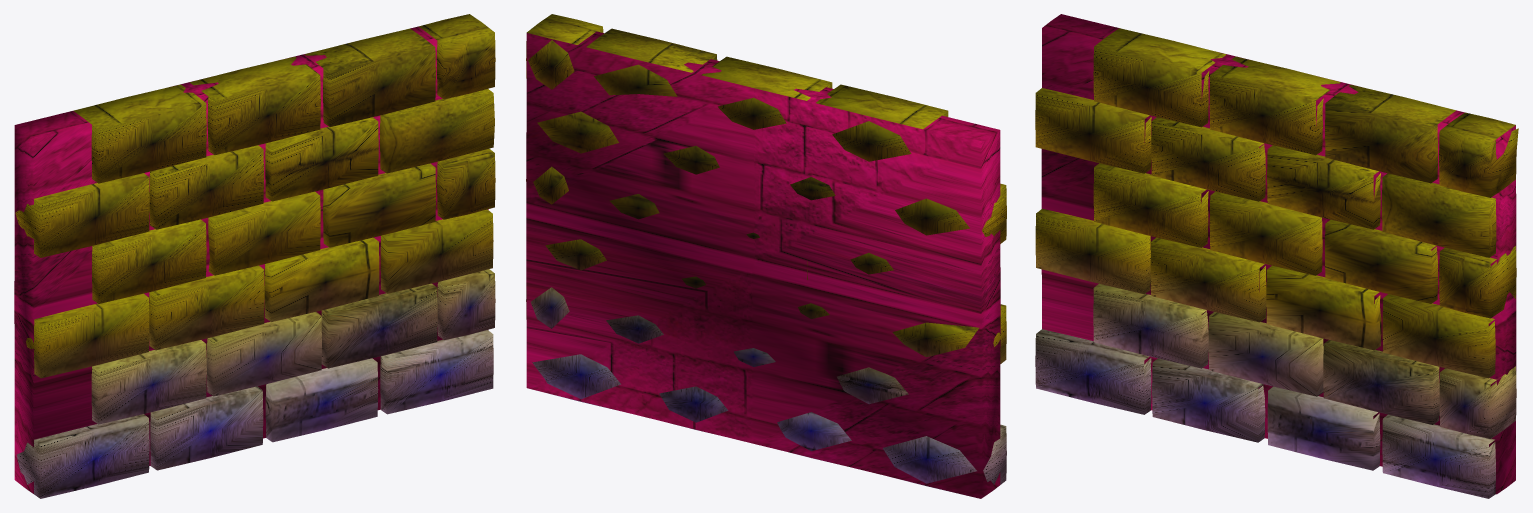
File: env_arch_ashlarwall_4m_lod0-lite-58c37cddc616.glb
The picture shows the model from 3 angles, left to right: view 1: azimuth 30°, elevation 25°; view 2: azimuth 150°, elevation 25°; view 3: azimuth 330°, elevation 25°; orthographic projection.
Visible parts, largest first — view 1: ENV_ARCH_AshlarWall_4m_LOD0; view 2: ENV_ARCH_AshlarWall_4m_LOD0; view 3: ENV_ARCH_AshlarWall_4m_LOD0.
Part boxes in pixels (x1,y1,x2,y2): ENV_ARCH_AshlarWall_4m_LOD0: [14, 14, 495, 498]; ENV_ARCH_AshlarWall_4m_LOD0: [526, 14, 1006, 498]; ENV_ARCH_AshlarWall_4m_LOD0: [1035, 14, 1518, 498].
Size of the model in its own units: 3.97 by 2.97 by 0.4176.
1 material, 1 textured.
